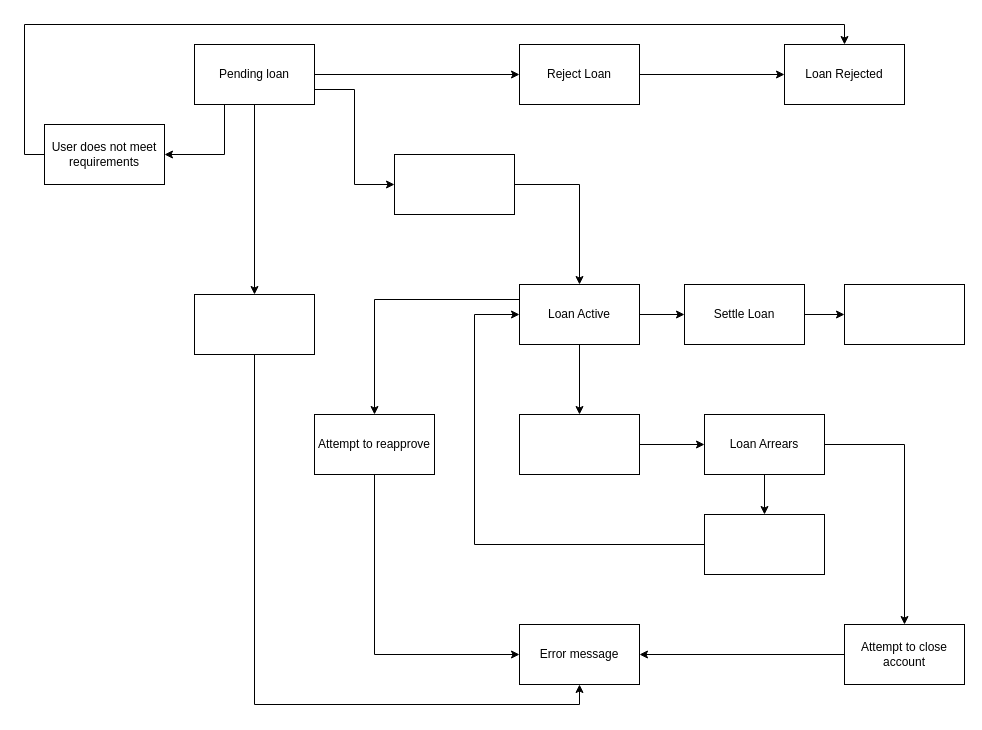
This 982x730 diagram has some shape labels left out. The shapes that lost their labels are listed below. From the top down, each one's centre as x and y in pixels, then its label:
point 454,184: Approve Loan
point 254,324: Attempt to use loan
point 904,314: Loan Closed
point 579,444: User misses payment
point 764,544: User catches up on payments
